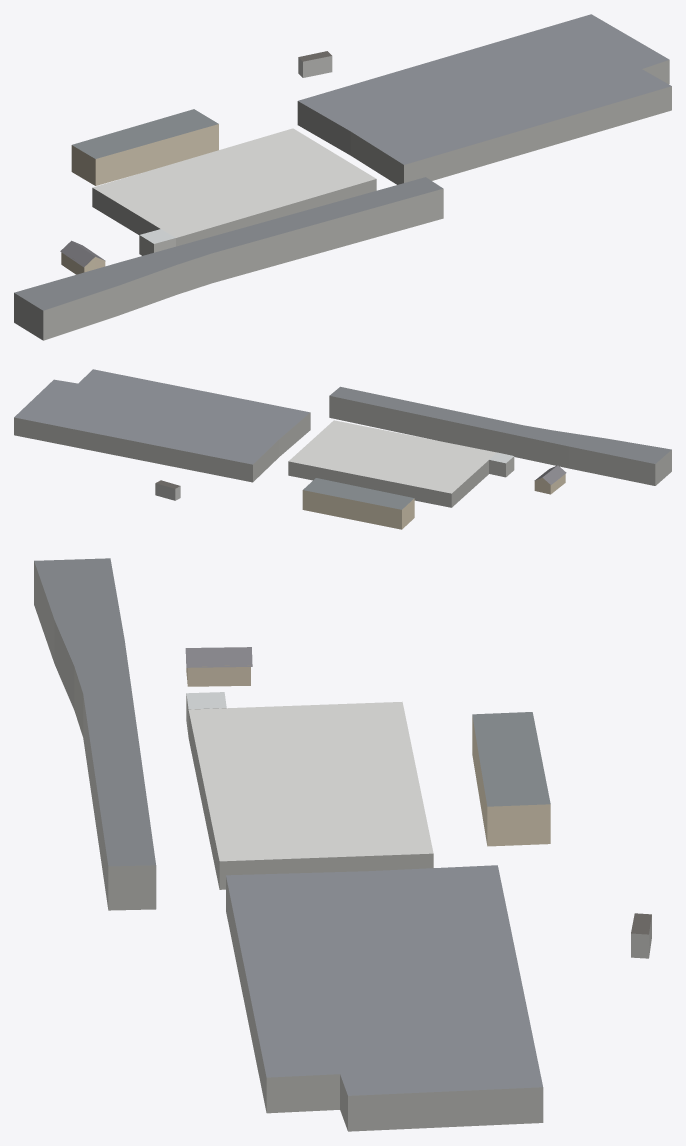
The picture shows the model from 3 angles, top to bottom: view 1: azimuth 30°, elevation 25°; view 2: azimuth 150°, elevation 25°; view 3: azimuth 270°, elevation 25°; orthographic projection. The views are drawn at different scales.
Parts seen in each view (by area): view 1: tuile; view 2: tuile; view 3: tuile.
Part boxes in pixels (box(x1,y1,x2,y2)): tuile: box(14, 14, 671, 340); tuile: box(14, 369, 671, 529); tuile: box(34, 558, 651, 1131).
Size of the model in its own units: 298 by 12.85 by 147.
